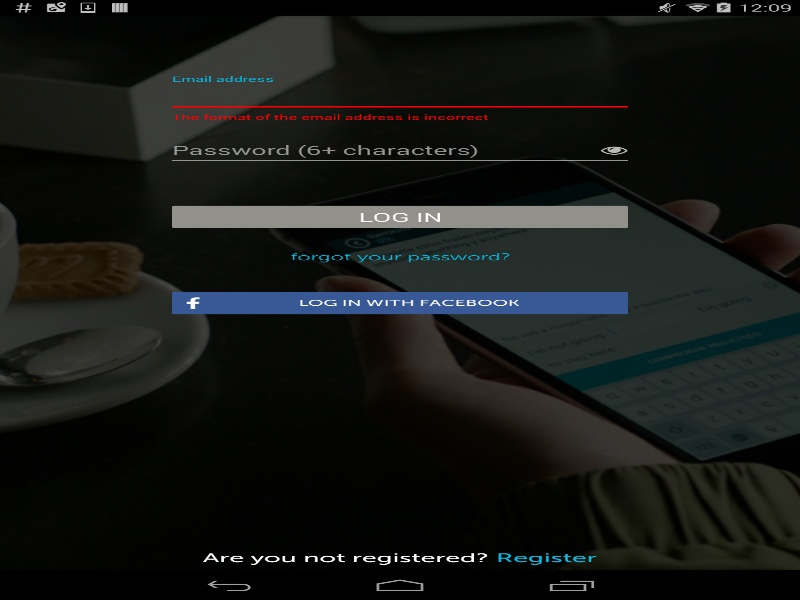Button: (166, 201, 633, 231), (166, 288, 633, 318), (594, 140, 633, 161)
Input: (166, 81, 633, 111), (166, 135, 633, 165)
